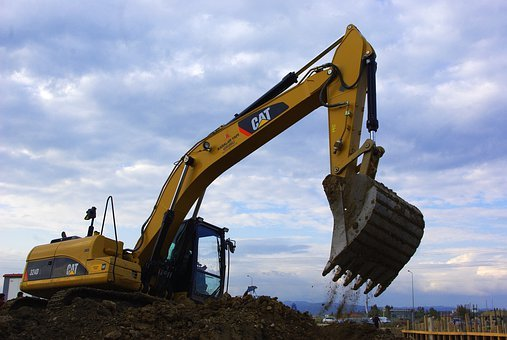excavator: (16, 22, 423, 307)
